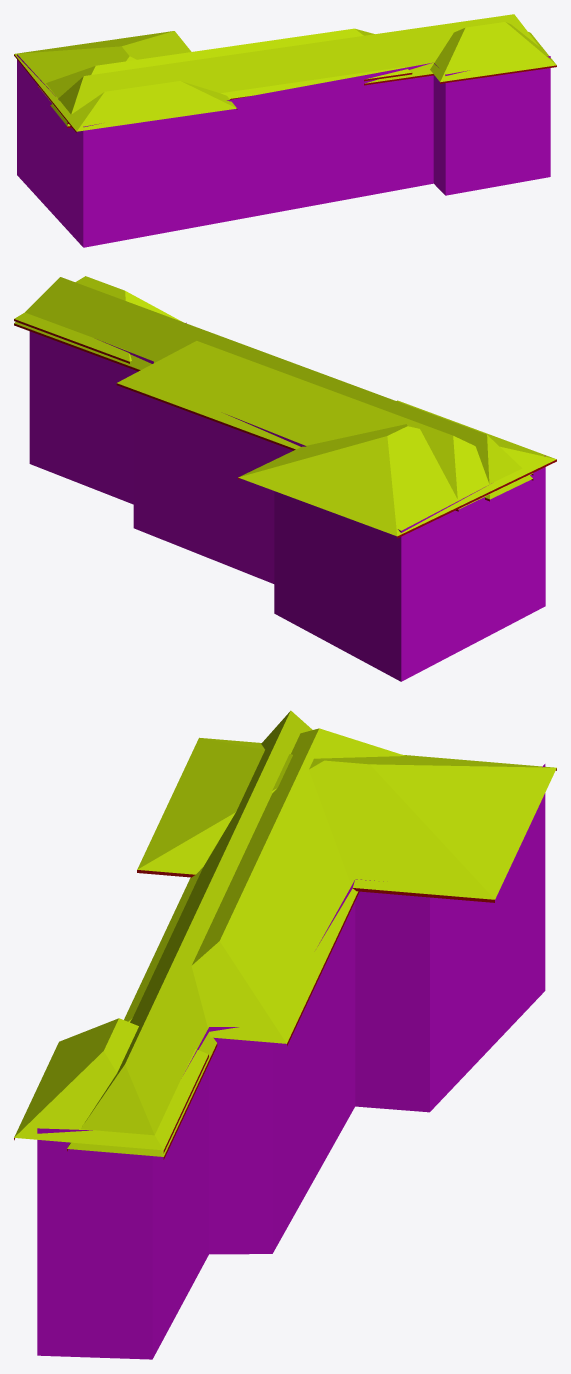
Rendered from ces_6.glb.
3 views of the same model, one above another, from view 1: azimuth 30°, elevation 25°; view 2: azimuth 150°, elevation 25°; view 3: azimuth 270°, elevation 25° (orthographic). The views are drawn at different scales.
Parts seen in each view (by area): view 1: ces_6; view 2: ces_6; view 3: ces_6.
Boxes of the visible parts, <box> form: ces_6: <box>14,14,556,247</box>; ces_6: <box>14,276,556,681</box>; ces_6: <box>14,710,556,1359</box>.
Size of the model in its own units: 33.45 by 10.7 by 18.84.
